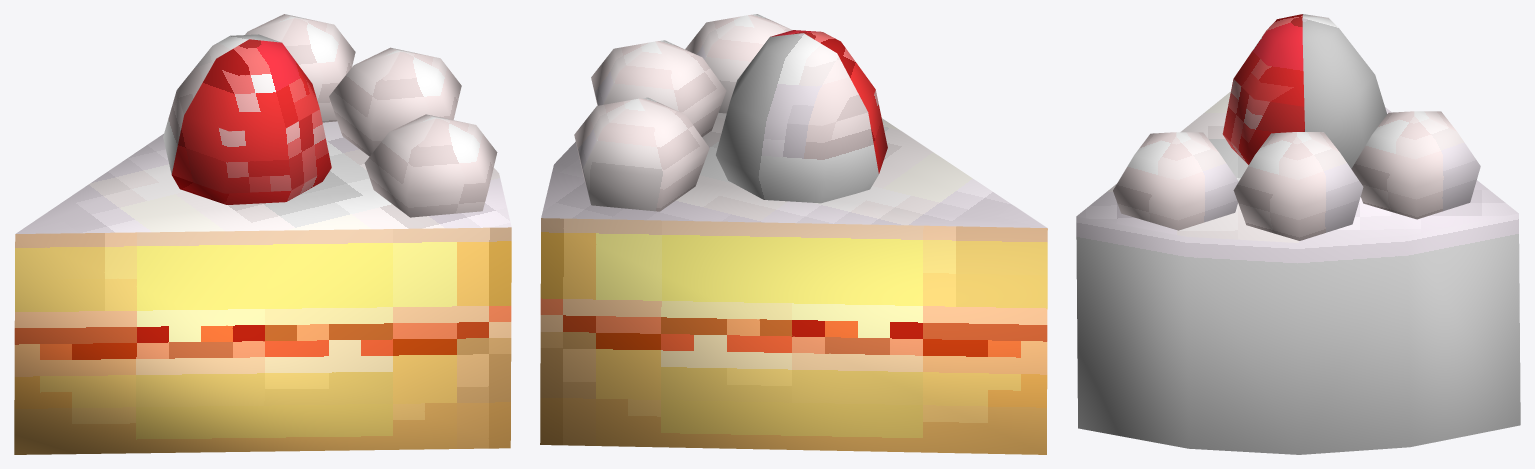
Rendered from cake.obj.
3 renders of one model, left to right at view 1: azimuth 30°, elevation 25°; view 2: azimuth 150°, elevation 25°; view 3: azimuth 270°, elevation 25°, orthographic. The views are drawn at different scales.
Parts seen in each view (by area): view 1: VisualMaterial0; view 2: VisualMaterial0; view 3: VisualMaterial0.
Part boxes in pixels (x1,y1,x2,y2): VisualMaterial0: (14,14,511,454); VisualMaterial0: (540,14,1047,454); VisualMaterial0: (1076,14,1520,454).
Bounding box in the file's own units: 12.97 × 9.93 × 11.67.
